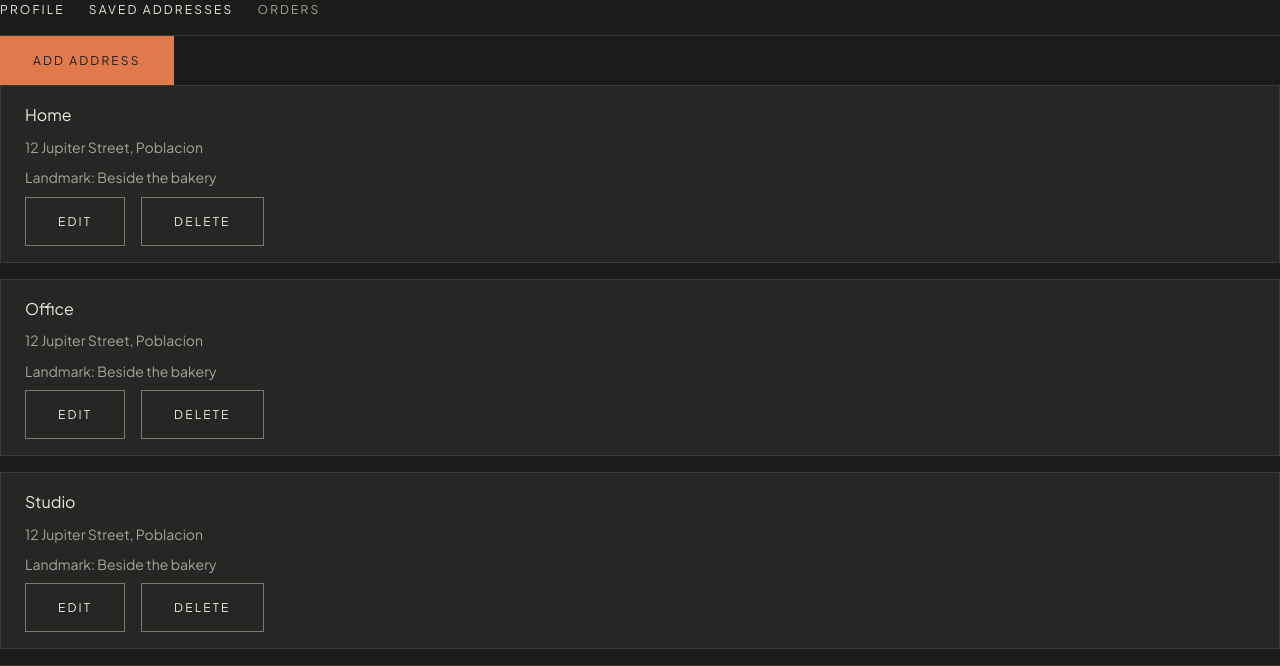
it: AddressBook › explains the five-address limit
Step 1. Click the button "Add address" → [87, 61], box 0,36 -> 174,85
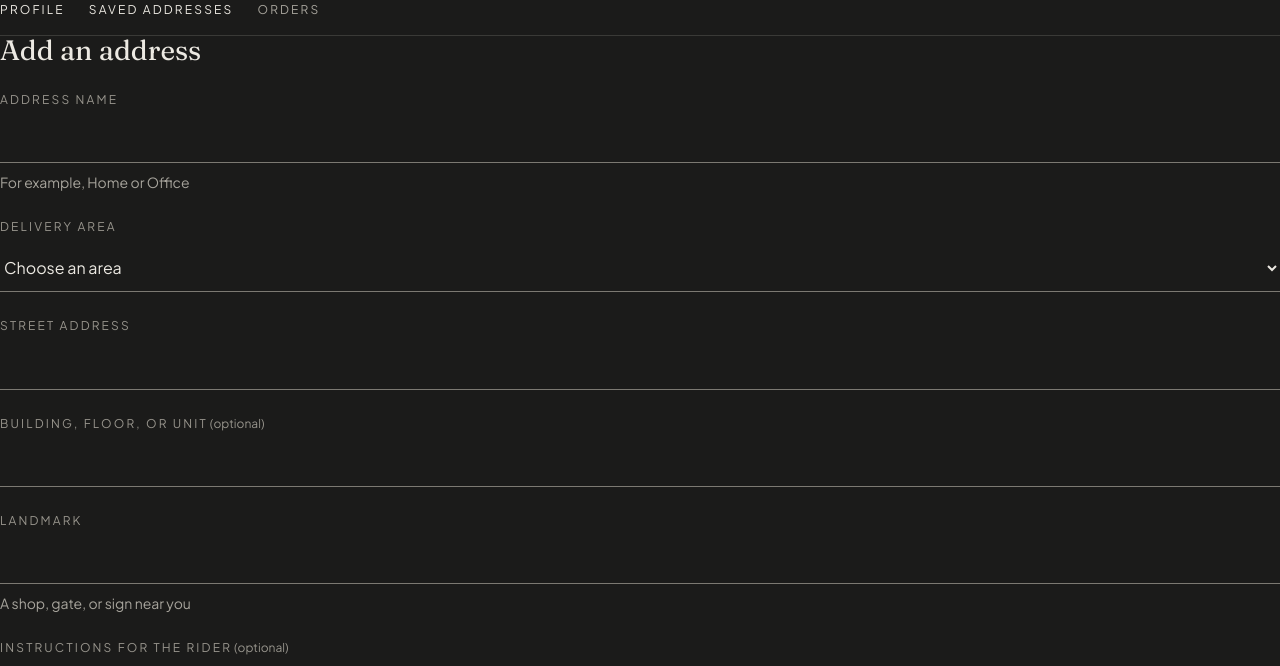
Step 2. Type "Sixth" into the field labelled "Address name" → [640, 140], box 0,117 -> 1279,163
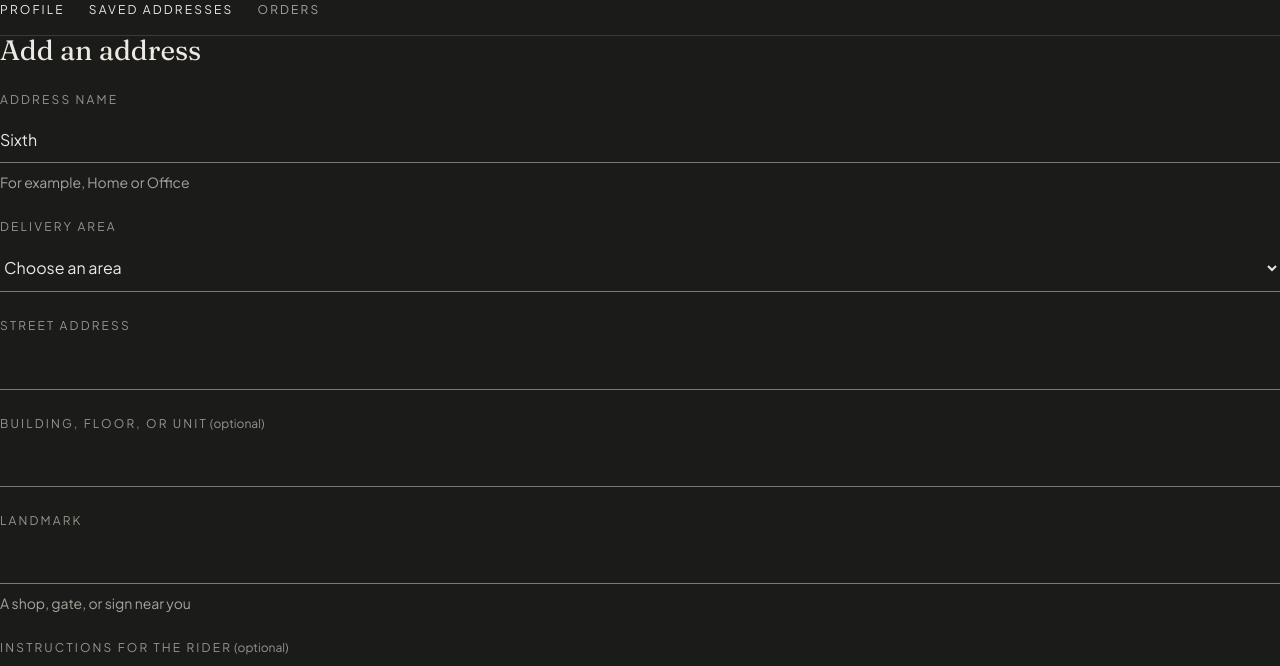
Step 3. Select "Poblacion · ₱60 delivery · ₱800 minimum" in the dropdown labelled "Delivery area" → [640, 268], box 0,244 -> 1279,292
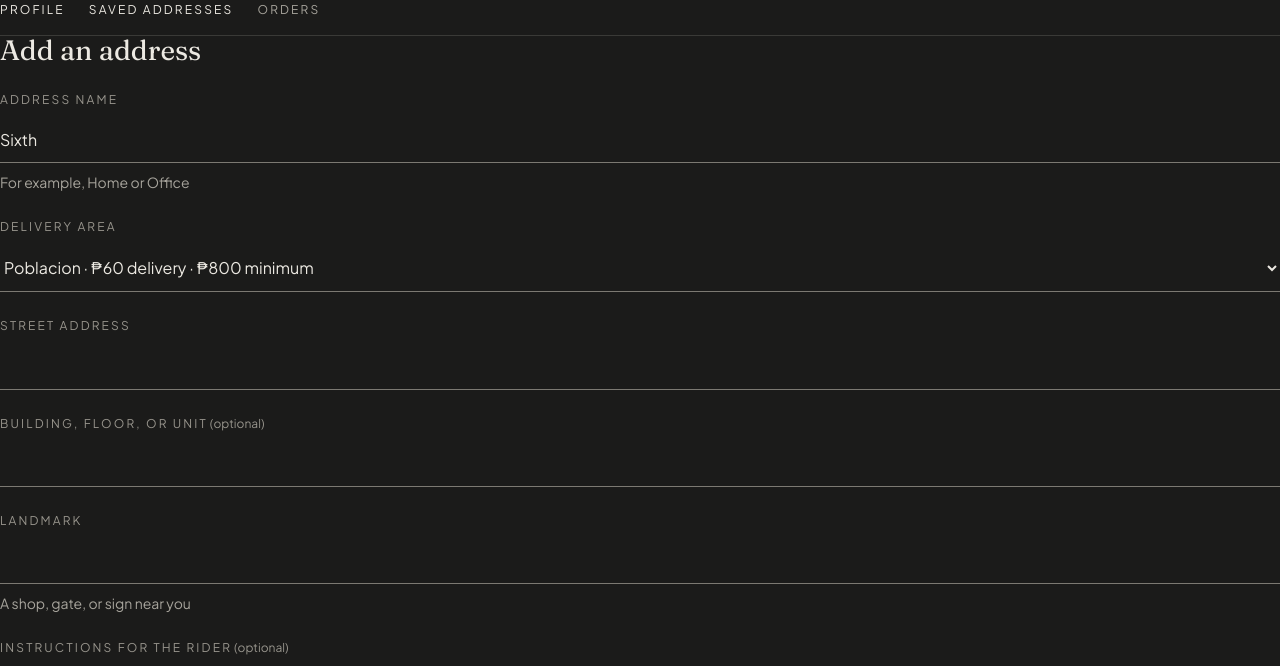
Step 4. Type "12 Jupiter Street" into the field labelled "Street address" → [640, 366], box 0,344 -> 1279,390
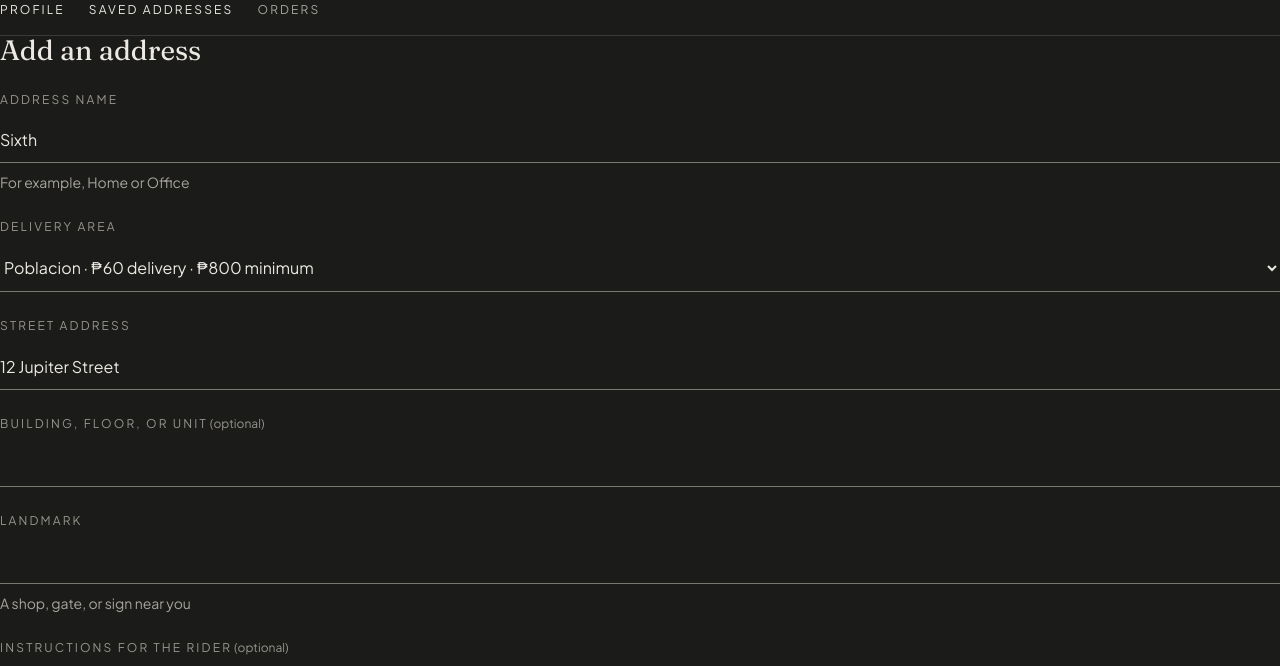
Step 5. Type "Beside the bakery" into the field labelled "Landmark" → [640, 561], box 0,538 -> 1279,584
(page scrolled)
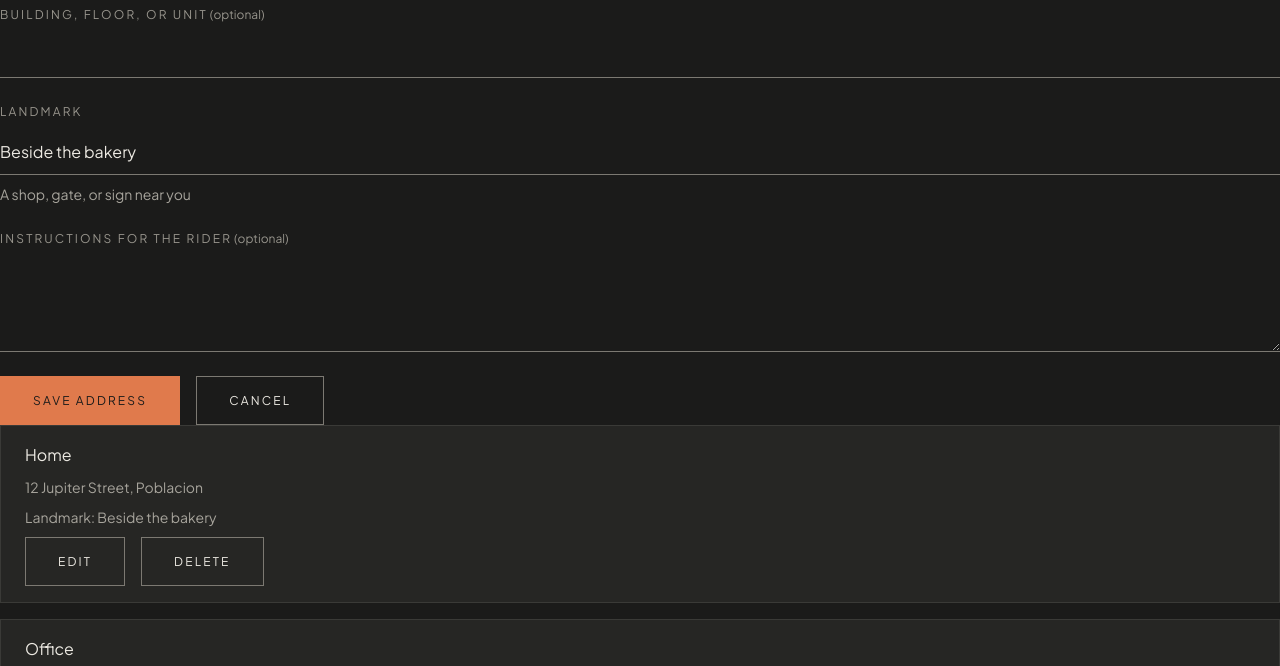
Step 6. Click the button "Save address" → [90, 401], box 0,376 -> 180,426
(page scrolled)
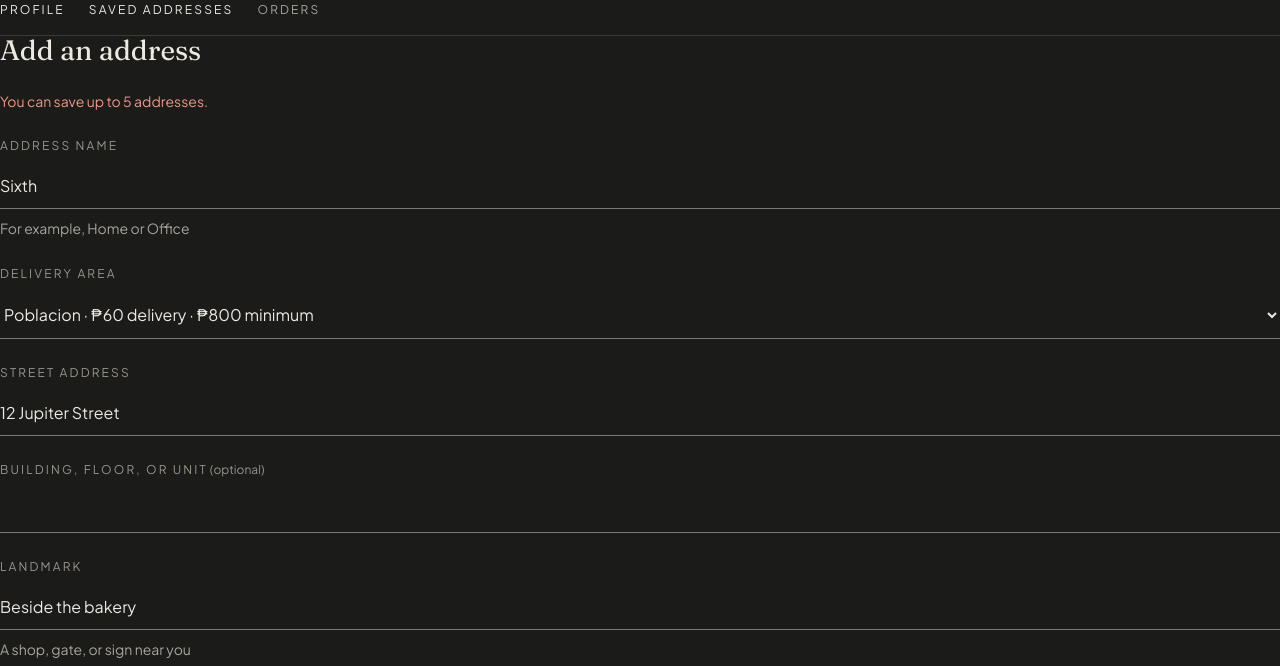
expect the text "You can save up to 5 addresses." is shown: met, box 0,92 -> 208,110
